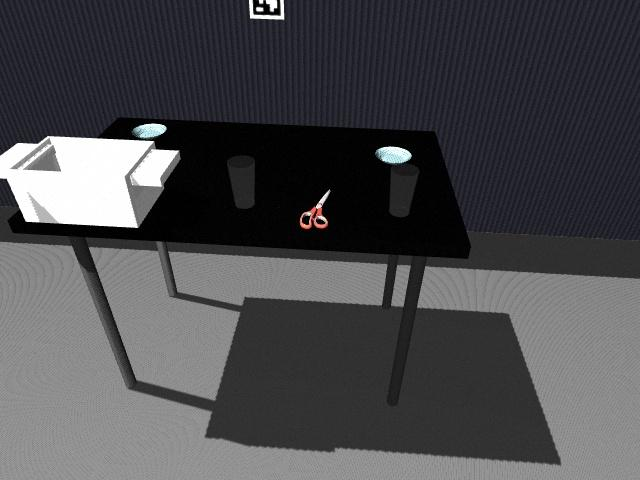cup: (388, 163, 419, 217), (227, 157, 256, 208)
plate: (373, 145, 414, 165), (131, 123, 169, 140)
scissors: (300, 188, 333, 230)
